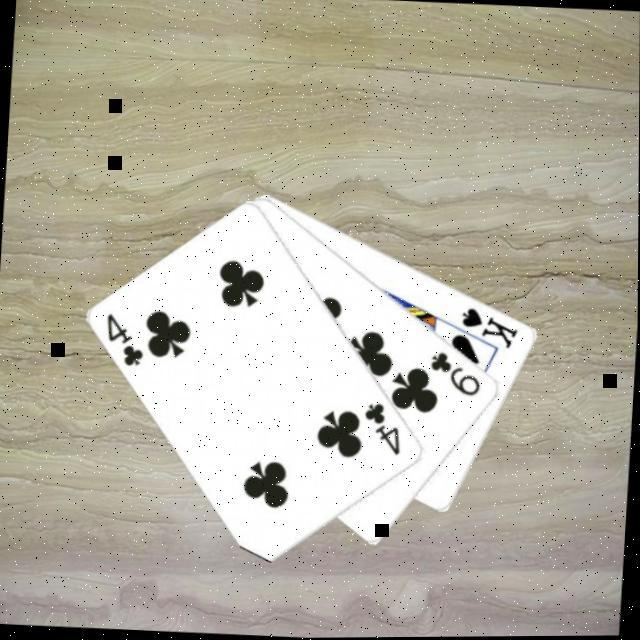4C: (104, 312, 152, 372), (362, 400, 408, 460)
9C: (428, 350, 488, 402)
KS: (459, 306, 525, 354)
